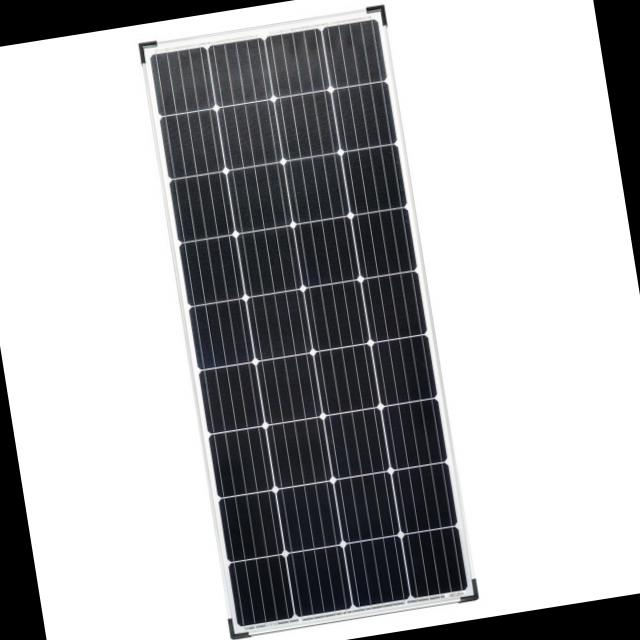no faulty: (149, 26, 466, 624)
